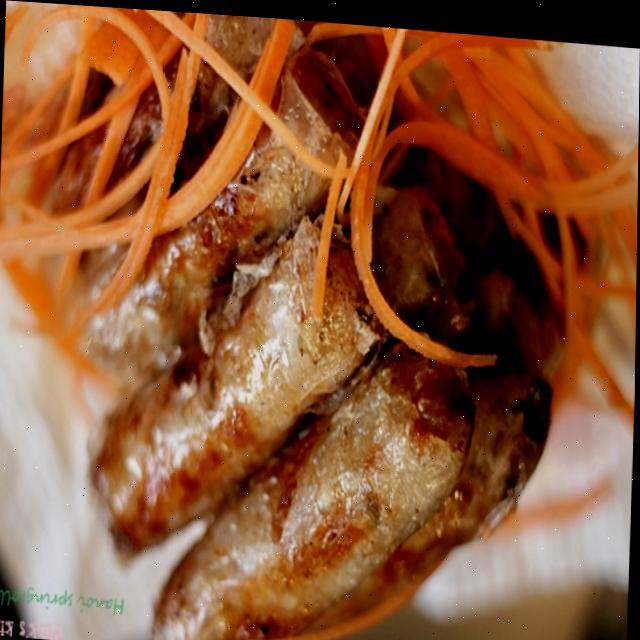炸货点心: (41, 66, 555, 640)
